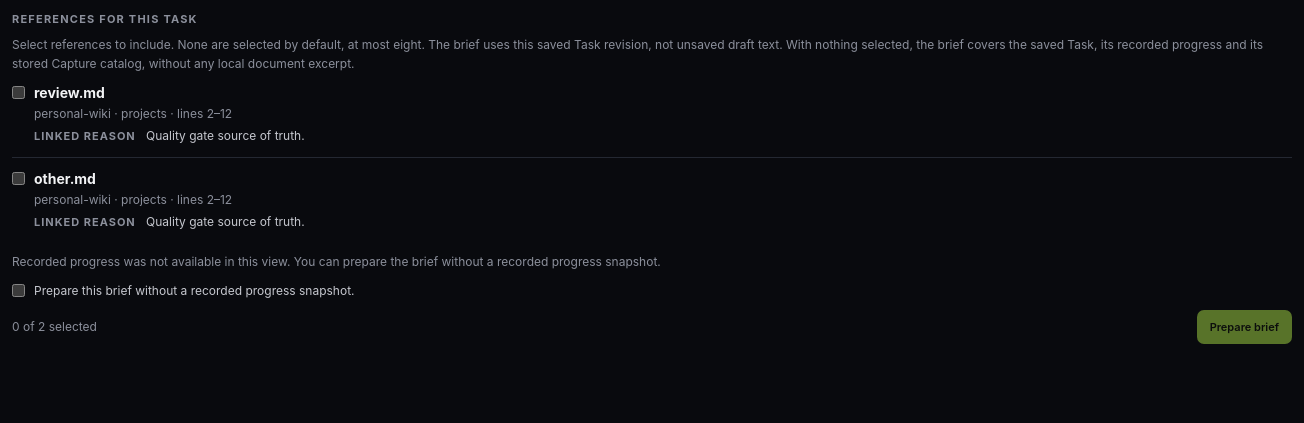
Test: a Unicode payload over 32KiB fails without showing a partial snapshot
The image size is (1304, 423).
Click the checkbox named "Include review.md from personal-wiki". click: (18, 93)
box: [12,86,25,99]
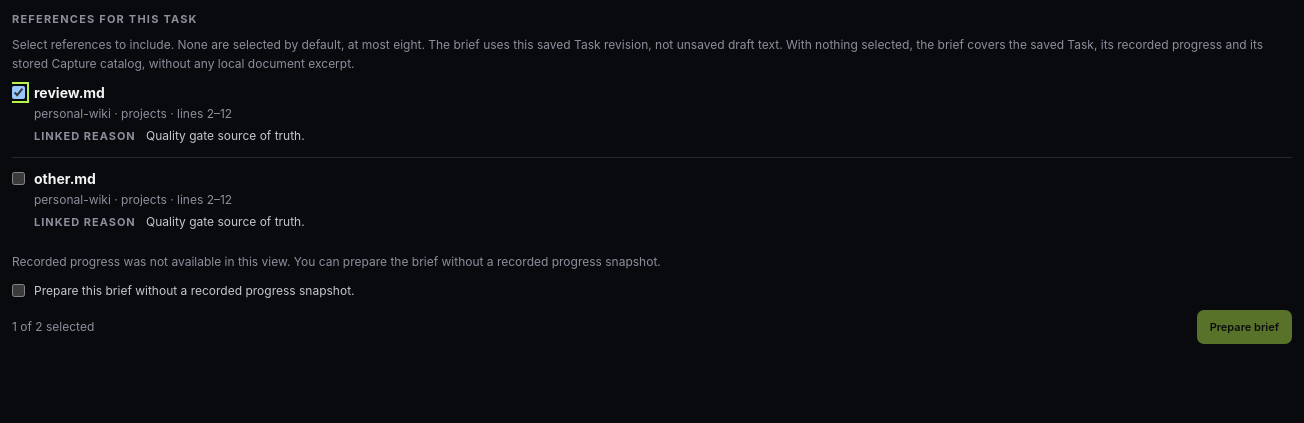
Click the checkbox named "Include other.md from personal-wiki". click: (18, 179)
box: [12,172,25,185]
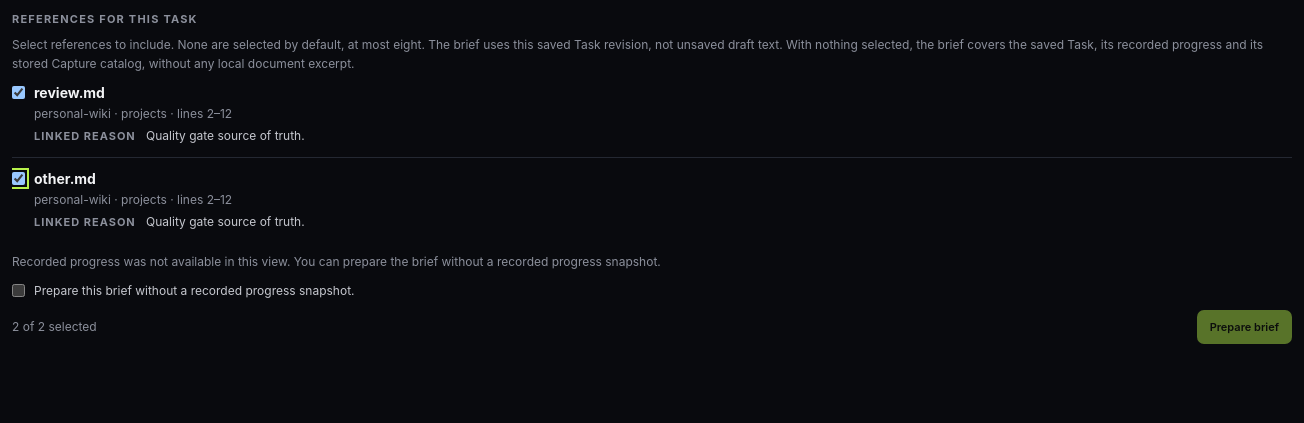
Click the checkbox labelled "Prepare this brief without a recorded progress snapshot.". click: (18, 290)
box: [12,284,25,297]
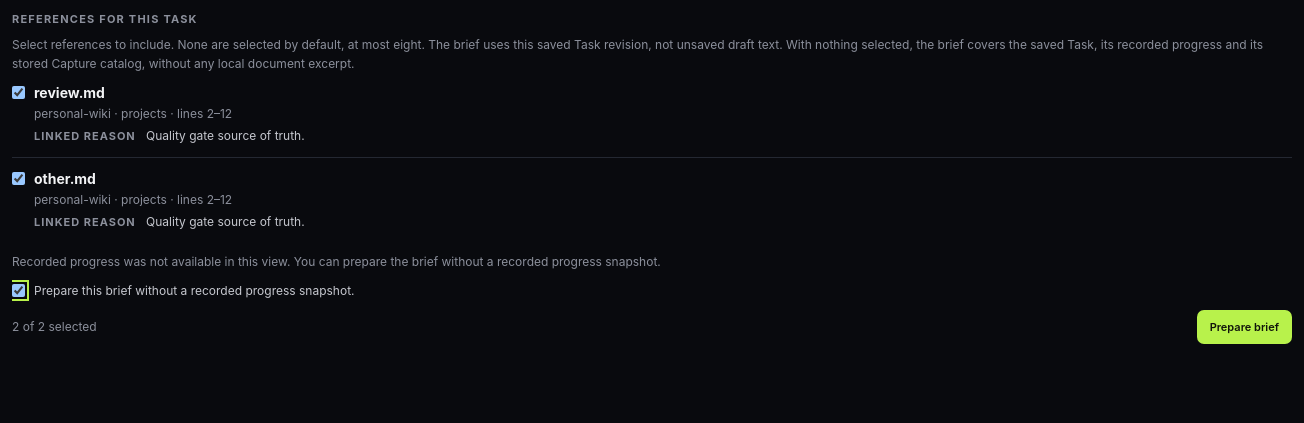
Click the button "Prepare brief". click: (1244, 327)
box: [1197,310,1292,344]
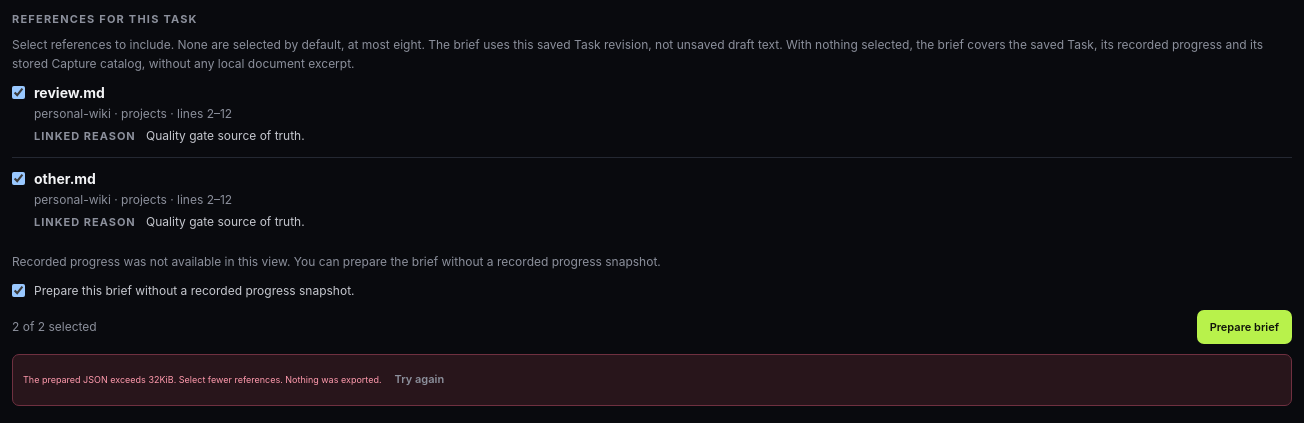
Check: the message shows "exceeds 32KiB", box [23,374,382,385]
